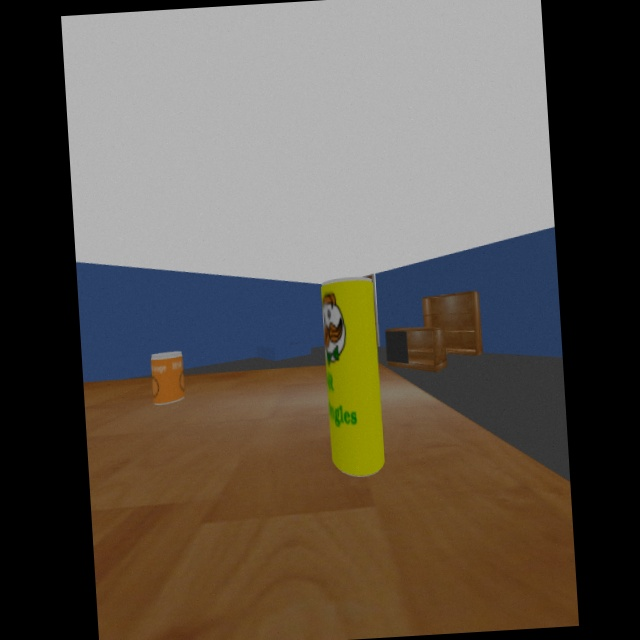chipsdose_gelb: (321, 277, 384, 477)
